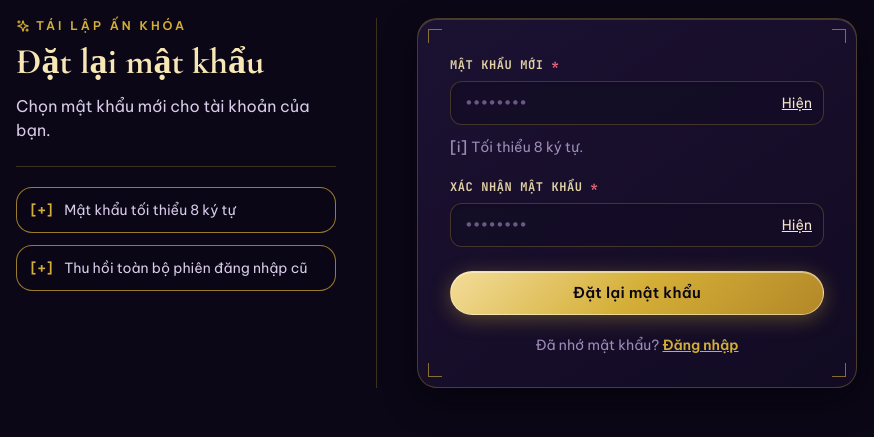
Scenario: ResetPassword Page › should show validation error when passwords do not match
Type "StrongPass123" into the password field labelled "Mật khẩu mới". click: (637, 103)
box: [450,81,824,125]
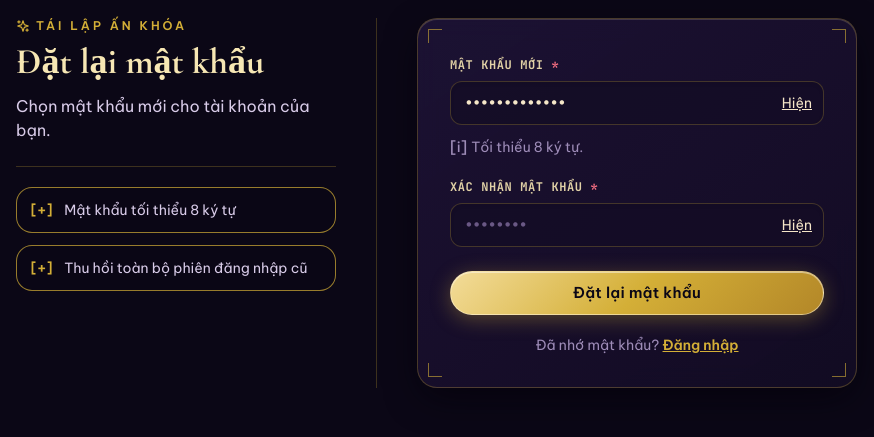
Type "DifferentPass123" into the password field labelled "Xác nhận mật khẩu". click: (637, 225)
box: [450,203,824,247]
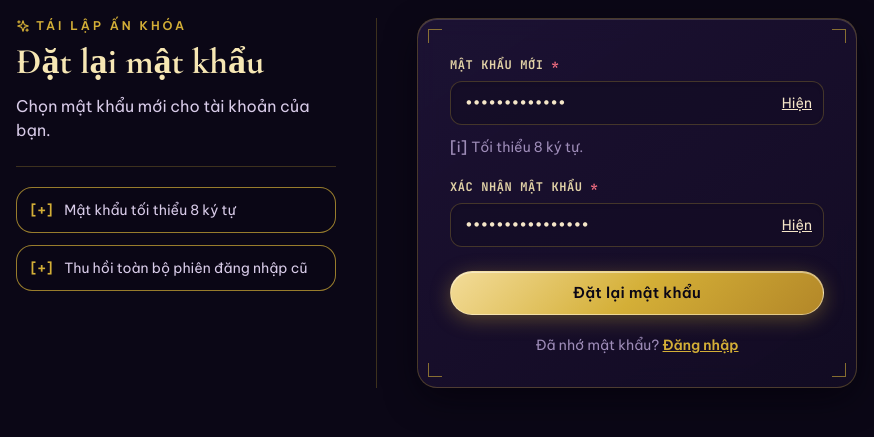
Click the button "Đặt lại mật khẩu". click: (637, 293)
box: [450,271,824,315]
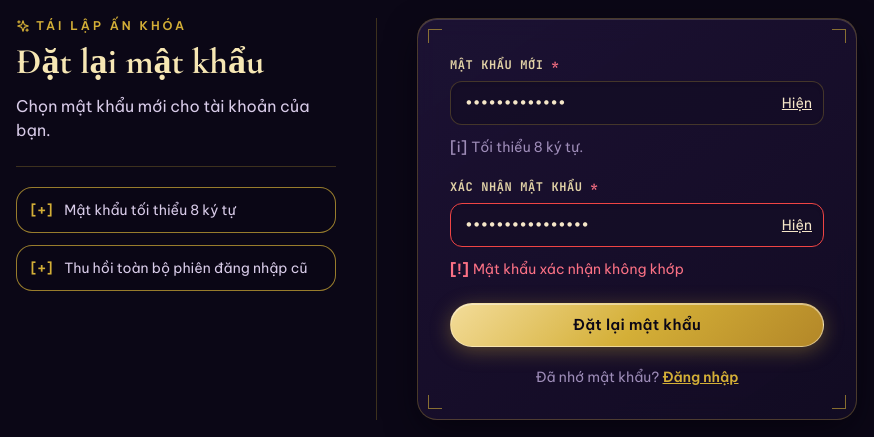
Expected: the text "Mật khẩu xác nhận không khớp" is shown, [473,259,684,279]
